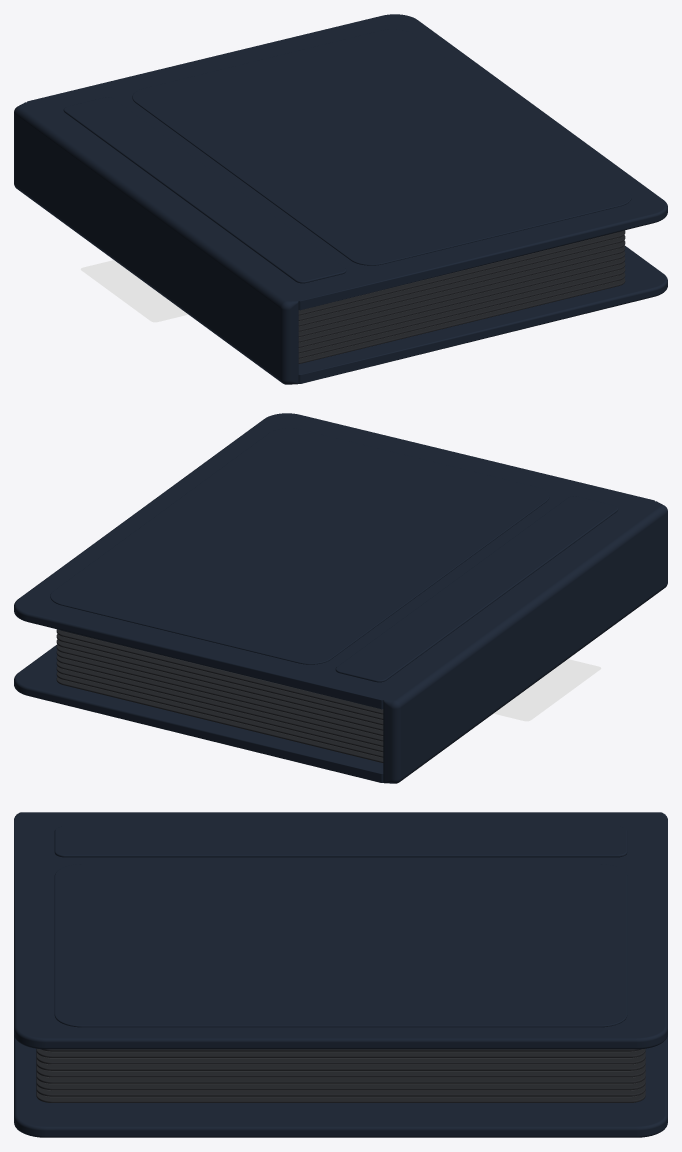
The model's file is album-12h.glb.
The picture shows the model from 3 angles, top to bottom: view 1: azimuth 30°, elevation 25°; view 2: azimuth 150°, elevation 25°; view 3: azimuth 270°, elevation 25°; orthographic projection. The views are drawn at different scales.
Visible parts, largest first — view 1: Tapa_Panel, Tapa_Malla, Lomo, Tapa_Banda, Contratapa, Plantilla_Carta_F, Hoja_6_Losa, Hoja_7_Losa, Hoja_9_Losa, Hoja_4_Losa, Hoja_3_Losa, Hoja_5_Losa (+4 smaller); view 2: Tapa_Panel, Tapa_Malla, Lomo, Tapa_Banda, Contratapa, Plantilla_Carta_F, Hoja_6_Losa, Hoja_7_Losa, Hoja_9_Losa, Hoja_4_Losa, Hoja_3_Losa, Hoja_5_Losa (+4 smaller); view 3: Tapa_Panel, Tapa_Malla, Contratapa, Tapa_Banda, Hoja_9_Losa, Lomo, Hoja_8_Losa, Hoja_7_Losa, Hoja_11_Losa, Hoja_5_Losa, Hoja_6_Losa, Hoja_10_Losa (+2 smaller).
Boxes of the visible parts, x1=… form: Tapa_Panel: x1=132, y1=29, x2=631, y2=265; Tapa_Malla: x1=27, y1=14, x2=667, y2=310; Lomo: x1=14, y1=102, x2=298, y2=384; Tapa_Banda: x1=63, y1=97, x2=346, y2=283; Contratapa: x1=298, y1=245, x2=667, y2=383; Plantilla_Carta_F: x1=80, y1=260, x2=187, y2=322; Hoja_6_Losa: x1=298, y1=251, x2=625, y2=336; Hoja_7_Losa: x1=298, y1=256, x2=625, y2=342; Hoja_9_Losa: x1=298, y1=267, x2=625, y2=353; Hoja_4_Losa: x1=298, y1=240, x2=625, y2=326; Hoja_3_Losa: x1=298, y1=235, x2=625, y2=320; Hoja_5_Losa: x1=298, y1=246, x2=625, y2=331; Tapa_Panel: x1=50, y1=428, x2=549, y2=664; Tapa_Malla: x1=14, y1=413, x2=654, y2=709; Lomo: x1=383, y1=501, x2=667, y2=783; Tapa_Banda: x1=335, y1=496, x2=618, y2=682; Contratapa: x1=14, y1=644, x2=383, y2=782; Plantilla_Carta_F: x1=494, y1=659, x2=601, y2=721; Hoja_6_Losa: x1=56, y1=650, x2=383, y2=735; Hoja_7_Losa: x1=56, y1=655, x2=383, y2=741; Hoja_9_Losa: x1=56, y1=666, x2=383, y2=752; Hoja_4_Losa: x1=56, y1=639, x2=383, y2=725; Hoja_3_Losa: x1=56, y1=634, x2=383, y2=719; Hoja_5_Losa: x1=56, y1=645, x2=383, y2=730; Tapa_Panel: x1=54, y1=864, x2=627, y2=1027; Tapa_Malla: x1=14, y1=818, x2=667, y2=1049; Contratapa: x1=14, y1=1035, x2=667, y2=1137; Tapa_Banda: x1=54, y1=826, x2=627, y2=857; Hoja_9_Losa: x1=36, y1=1077, x2=645, y2=1090; Lomo: x1=14, y1=812, x2=667, y2=818; Hoja_8_Losa: x1=36, y1=1071, x2=645, y2=1083; Hoja_7_Losa: x1=36, y1=1064, x2=645, y2=1077; Hoja_11_Losa: x1=36, y1=1090, x2=645, y2=1102; Hoja_5_Losa: x1=36, y1=1052, x2=645, y2=1064; Hoja_6_Losa: x1=36, y1=1058, x2=645, y2=1070; Hoja_10_Losa: x1=36, y1=1084, x2=645, y2=1096.
Size of the model in its own units: 0.2895 by 0.0552 by 0.322.
